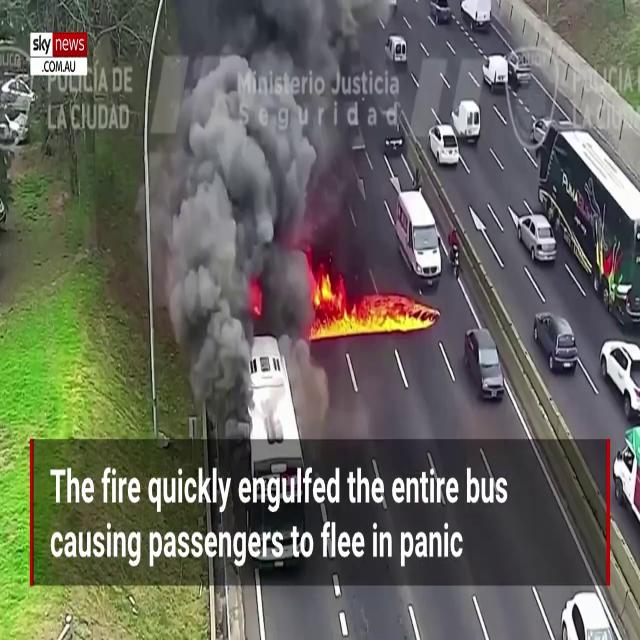Fire: (307, 269, 433, 336)
Smoke: (96, 0, 401, 332)
